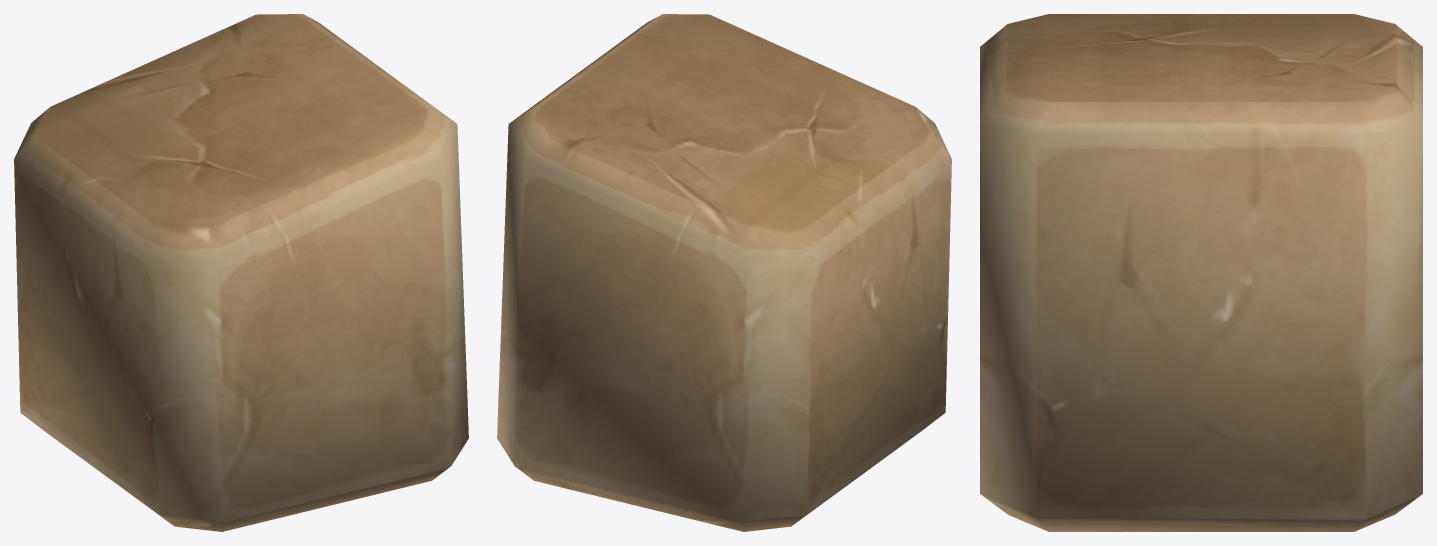
The model's file is DE_House_Mod_Part_64.fbx.
The picture shows the model from 3 angles, left to right: view 1: azimuth 30°, elevation 25°; view 2: azimuth 150°, elevation 25°; view 3: azimuth 270°, elevation 25°; orthographic projection. The views are drawn at different scales.
Parts seen in each view (by area): view 1: DE_House_Mod_Part_64; view 2: DE_House_Mod_Part_64; view 3: DE_House_Mod_Part_64.
Boxes of the visible parts, bbox=[...] form: DE_House_Mod_Part_64: bbox=[14, 14, 468, 531]; DE_House_Mod_Part_64: bbox=[497, 14, 951, 531]; DE_House_Mod_Part_64: bbox=[980, 14, 1422, 531].
Size of the model in its own units: 0.5803 by 0.6231 by 0.5935.
